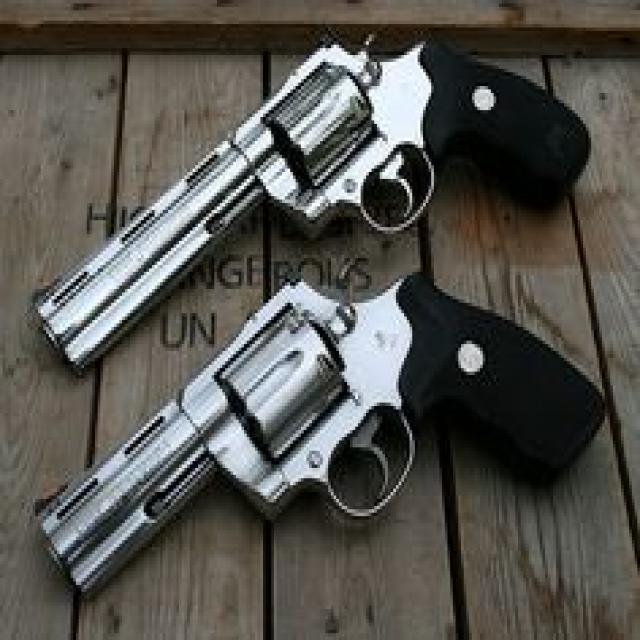revolver: (21, 1, 640, 378)
